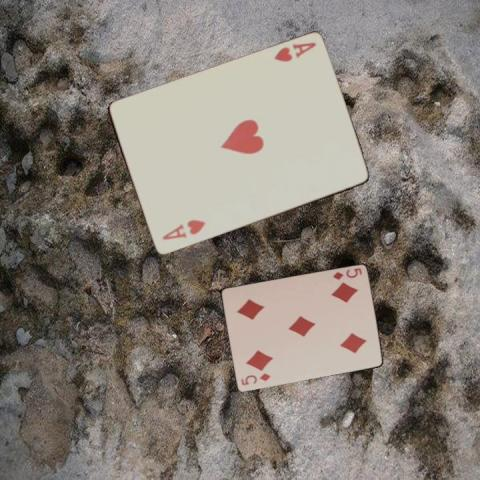5d: (238, 370, 271, 387), (330, 266, 363, 282)
Ah: (159, 217, 207, 242), (271, 39, 317, 64)
